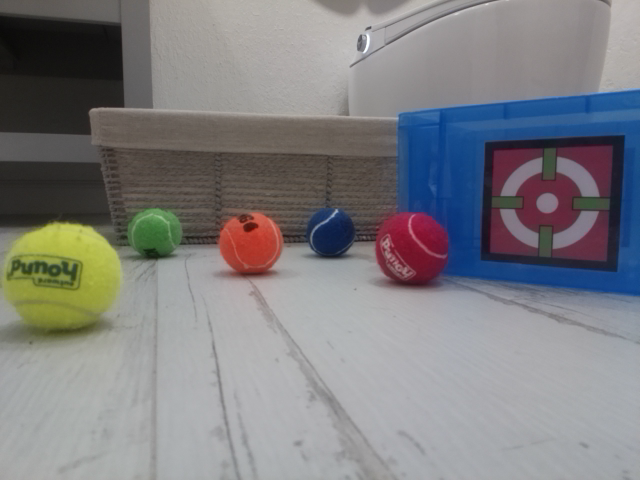blue-ball: (305, 206, 357, 260)
drop-bin: (480, 135, 626, 275)
green-ball: (125, 206, 184, 260)
orange-ball: (217, 210, 284, 276)
red-ball: (374, 210, 452, 287)
yellow-ball: (3, 221, 123, 333)
